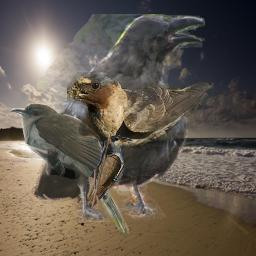Crow: (31, 14, 205, 222)
Cuckoo: (11, 103, 129, 237), (85, 135, 144, 209)
Swallow: (67, 72, 214, 151)
